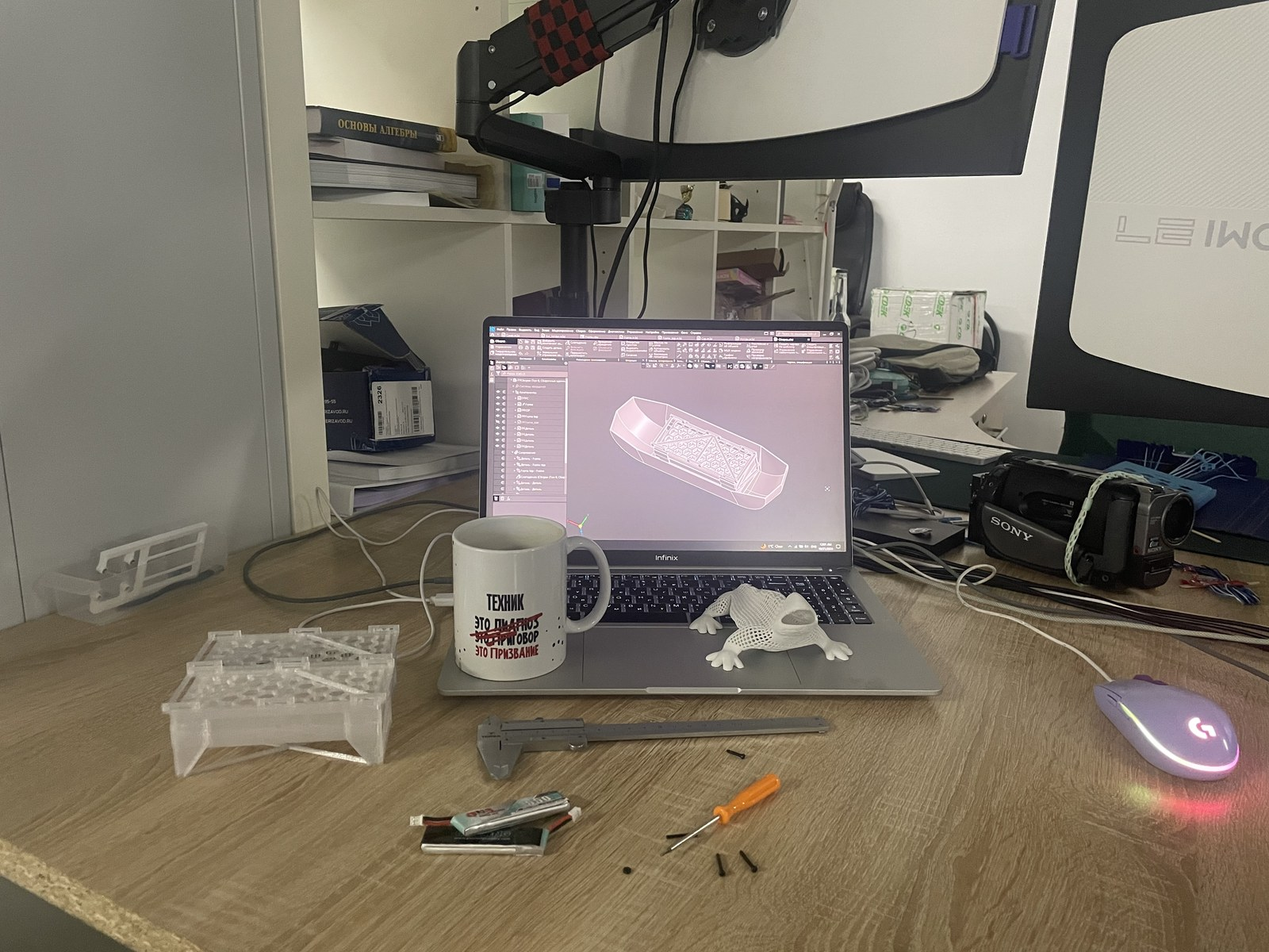laptop: (435, 315, 944, 698)
